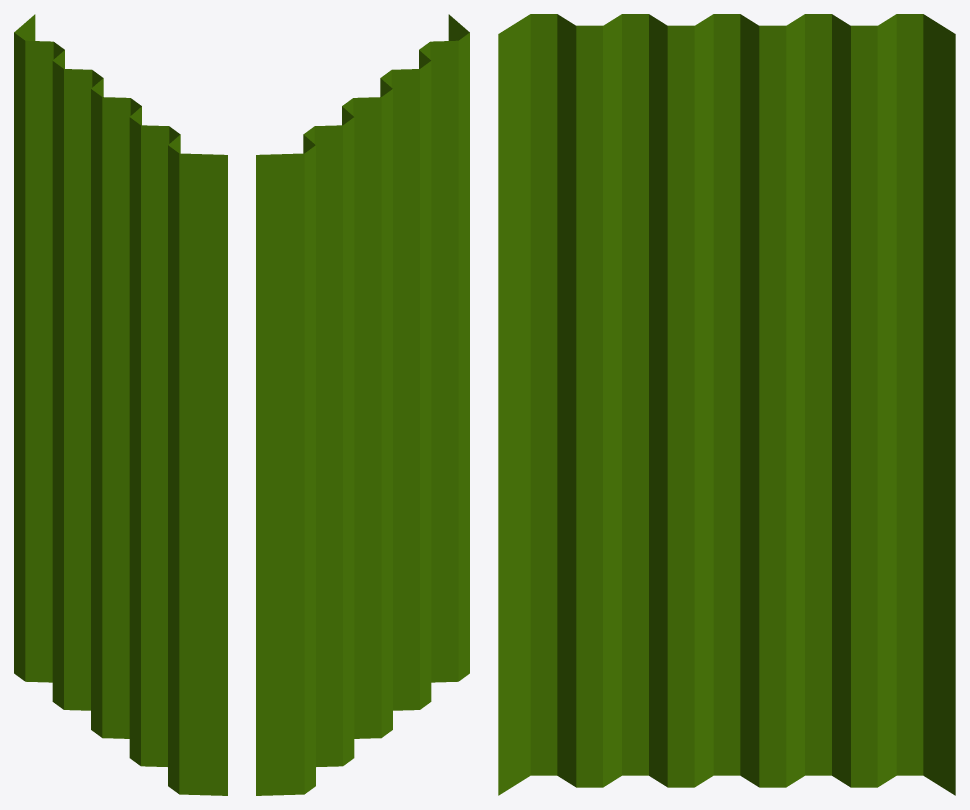
File: SM_Tole3.fbx
The picture shows the model from 3 angles, left to right: view 1: azimuth 30°, elevation 25°; view 2: azimuth 150°, elevation 25°; view 3: azimuth 270°, elevation 25°; orthographic projection. The views are drawn at different scales.
Parts seen in each view (by area): view 1: Tole3; view 2: Tole3; view 3: Tole3.
Boxes of the visible parts, box(x1,y1,x2,y2) form: Tole3: box(14, 14, 227, 795); Tole3: box(256, 14, 469, 795); Tole3: box(498, 14, 955, 795).
Bounding box in the file's own units: 9.3 × 163 × 88.94.
